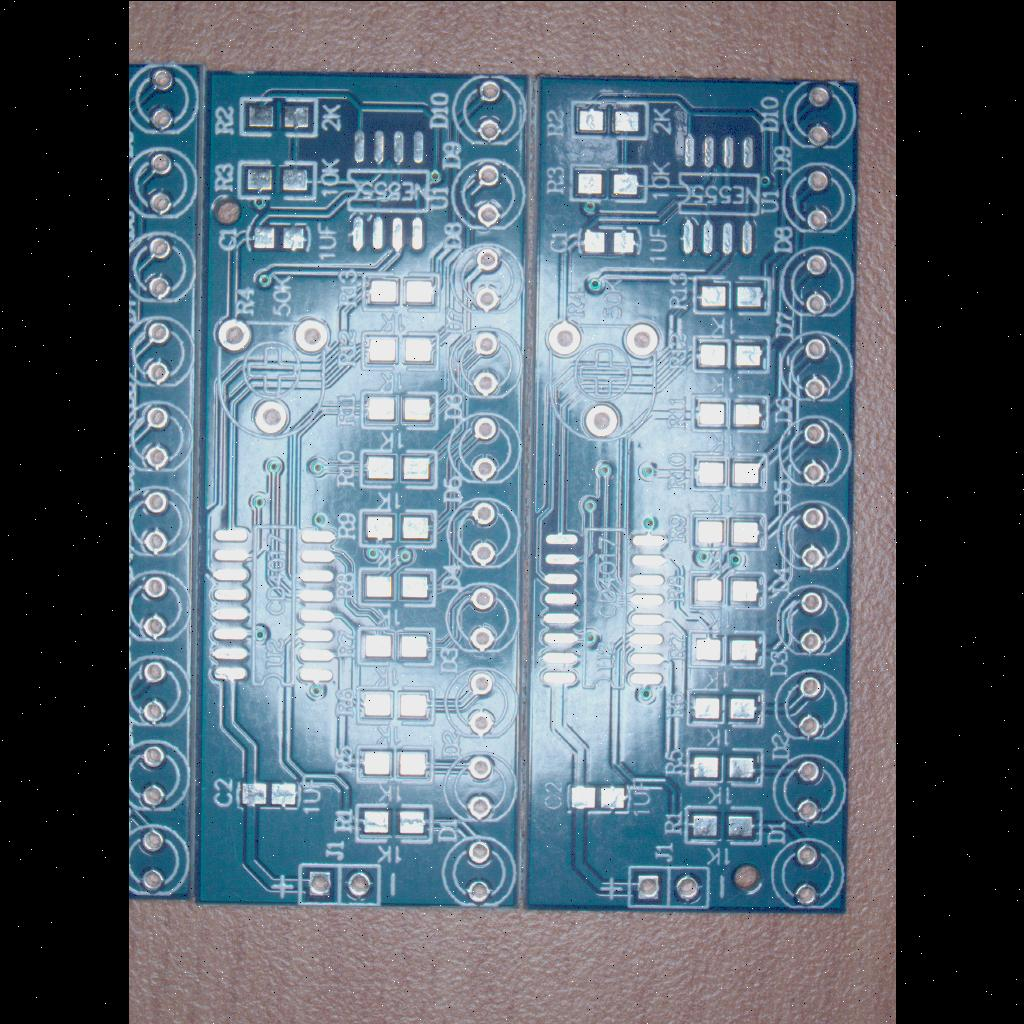NG: (535, 514, 675, 698), (202, 513, 342, 695), (342, 120, 436, 260), (670, 125, 764, 259), (352, 620, 440, 672), (234, 92, 324, 140), (680, 740, 766, 790), (354, 386, 442, 434), (234, 155, 320, 203), (354, 561, 440, 609), (686, 506, 772, 554), (688, 390, 776, 436), (677, 802, 765, 848), (356, 444, 440, 492), (351, 682, 435, 730), (352, 740, 436, 788), (356, 327, 442, 373), (688, 330, 774, 376), (686, 448, 772, 494), (358, 269, 442, 315), (351, 799, 435, 845), (568, 96, 652, 142), (566, 159, 652, 203), (688, 272, 774, 316), (356, 505, 440, 549), (683, 569, 771, 611), (686, 626, 770, 670), (680, 686, 768, 728), (561, 777, 637, 817), (240, 217, 314, 255), (574, 223, 646, 259), (234, 776, 304, 812)
OK: (296, 860, 380, 906)
